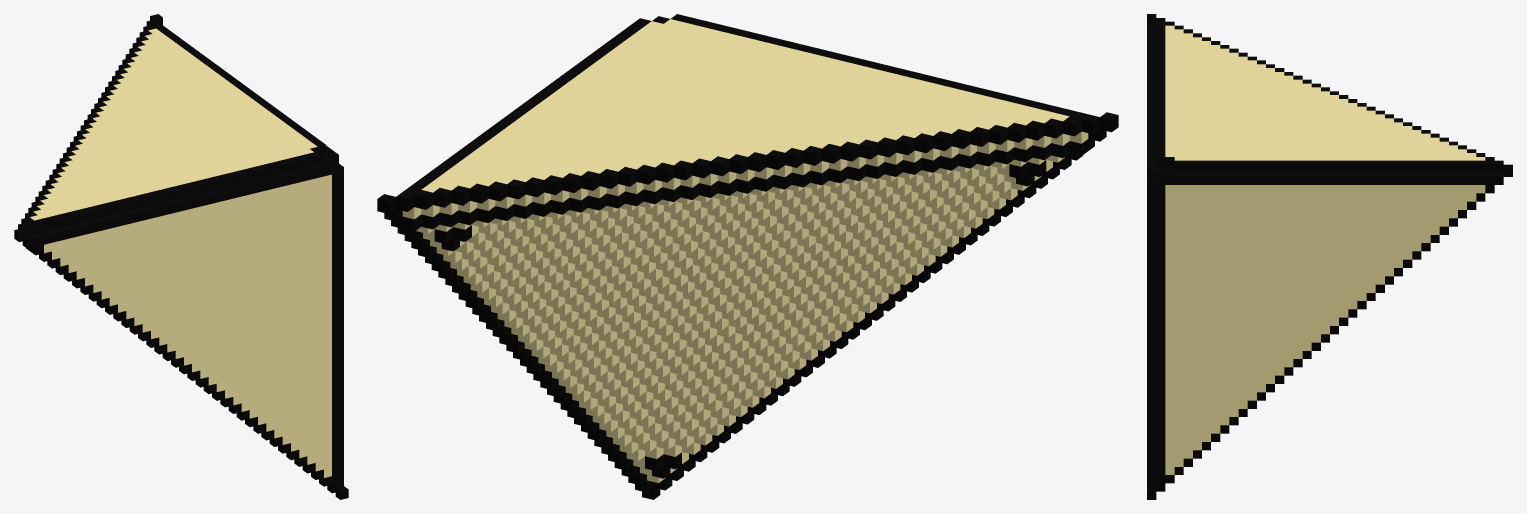
File: monolith_shield.gltf
3 views of the same model, side by side, from view 1: azimuth 30°, elevation 25°; view 2: azimuth 150°, elevation 25°; view 3: azimuth 270°, elevation 25° (orthographic). The views are drawn at different scales.
Bounding box in the file's own units: 40 × 40 × 40.
Materials: 2 (2 with a texture image).
